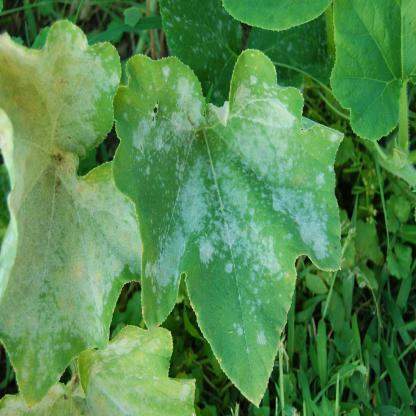squash powdery mildew leaf: (112, 40, 353, 416)
